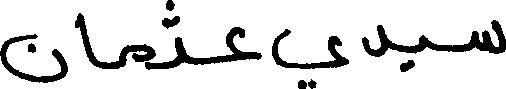X: (273, 24, 348, 88), (0, 29, 67, 87), (226, 22, 258, 66), (473, 15, 505, 58), (77, 8, 94, 70), (123, 39, 153, 74), (362, 20, 387, 61), (174, 0, 186, 71), (420, 30, 426, 56)
